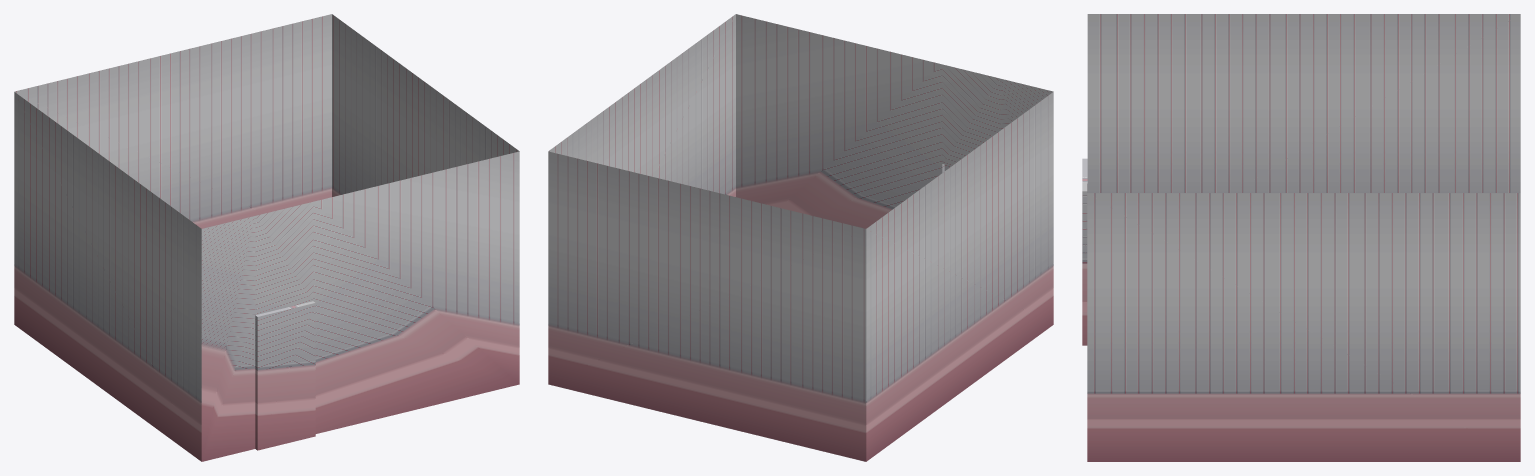
Rendered from Doll_Room_Wall_001_Collider.FBX.
The picture shows the model from 3 angles, left to right: view 1: azimuth 30°, elevation 25°; view 2: azimuth 150°, elevation 25°; view 3: azimuth 270°, elevation 25°; orthographic projection. The views are drawn at different scales.
Visible parts, largest first — view 1: Doll_Room_Wall_001_Collider; view 2: Doll_Room_Wall_001_Collider; view 3: Doll_Room_Wall_001_Collider.
Boxes of the visible parts, x1,y1,x2,y2 form: Doll_Room_Wall_001_Collider: [14, 14, 519, 461]; Doll_Room_Wall_001_Collider: [548, 14, 1053, 461]; Doll_Room_Wall_001_Collider: [1082, 14, 1520, 461].
Bounding box in the file's own units: 468 × 328 × 484.
